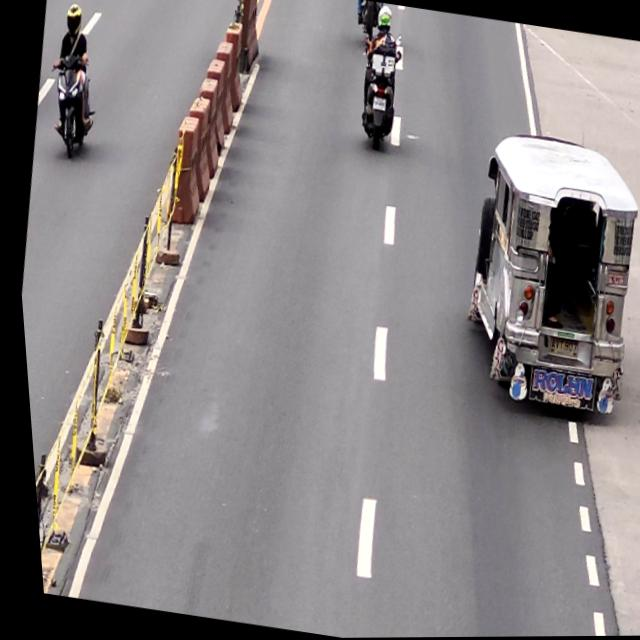Jeep: (438, 128, 640, 429)
License-Plate: (543, 336, 575, 360), (369, 96, 386, 111)
Motorcycle: (346, 28, 411, 154)
